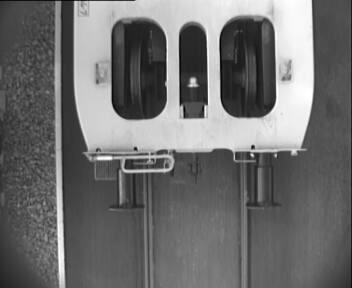Copy of Copy of Copy of Copy of Copy of wagon_scan: (107, 11, 284, 126)
